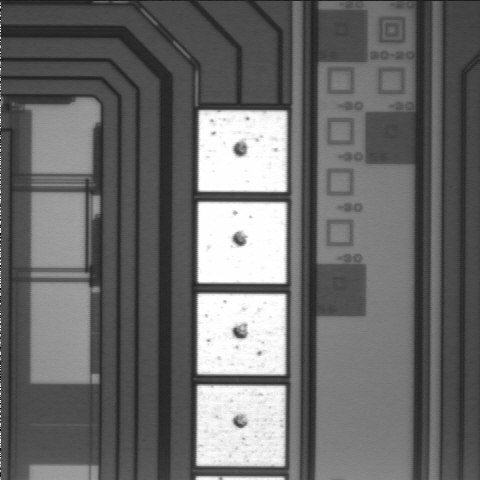pad: (198, 110, 287, 192), (198, 202, 287, 284), (197, 294, 286, 375), (197, 385, 286, 466)
